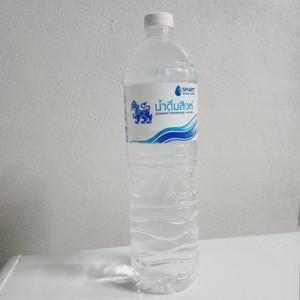bottle: (120, 5, 205, 300)
